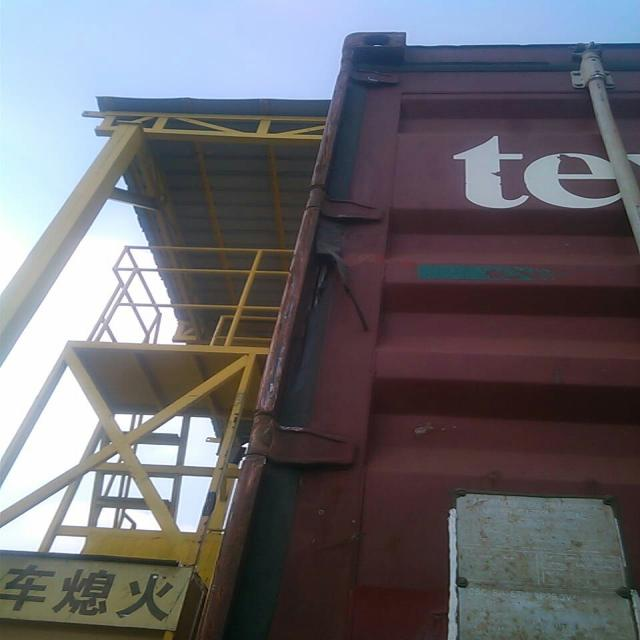rust: (295, 216, 375, 337), (238, 406, 285, 474)
